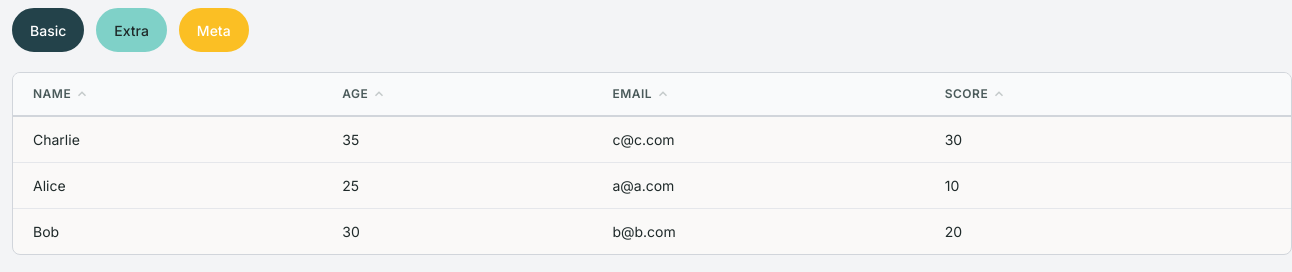
ConfigurableTable › sorting › sorts ascending on first header click
The width and height of the screenshot is (1292, 272).
# Click 'Name' header
Click the column heading with class "ct-th-sortable" showing "Name" at (52, 94), box [13,73,322,116]
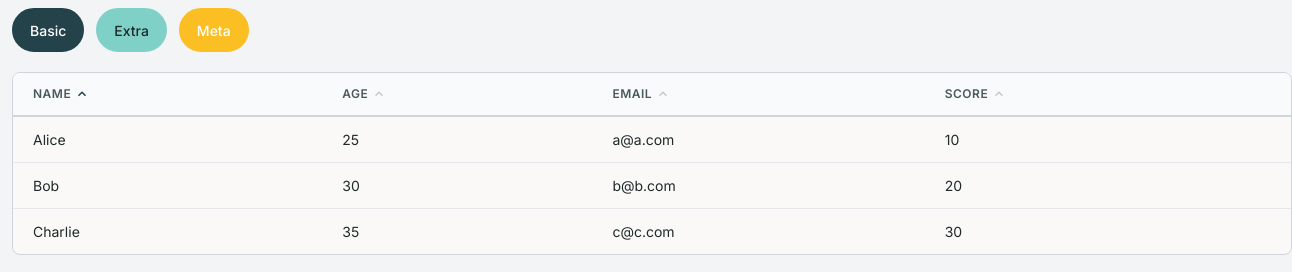
Expected: the cell "Alice" is shown, [13,116,322,162]
Expected: the cell "Bob" is shown, [13,162,322,208]
Expected: the cell "Charlie" is shown, [13,208,322,254]
